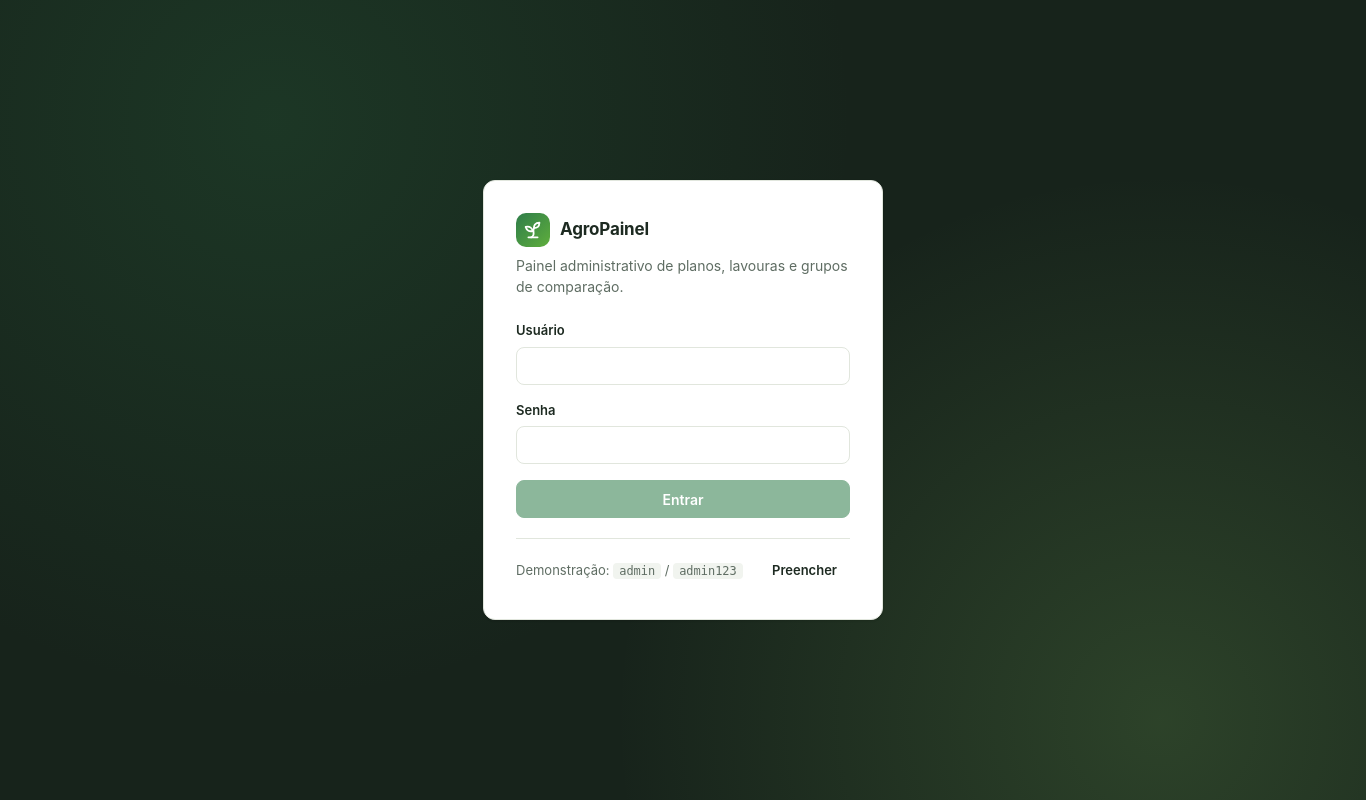
Test case: Autenticação › exibe erro com credenciais inválidas
The width and height of the screenshot is (1366, 800).
In the field named "username": (683, 366) [516,347,850,385], type "admin"
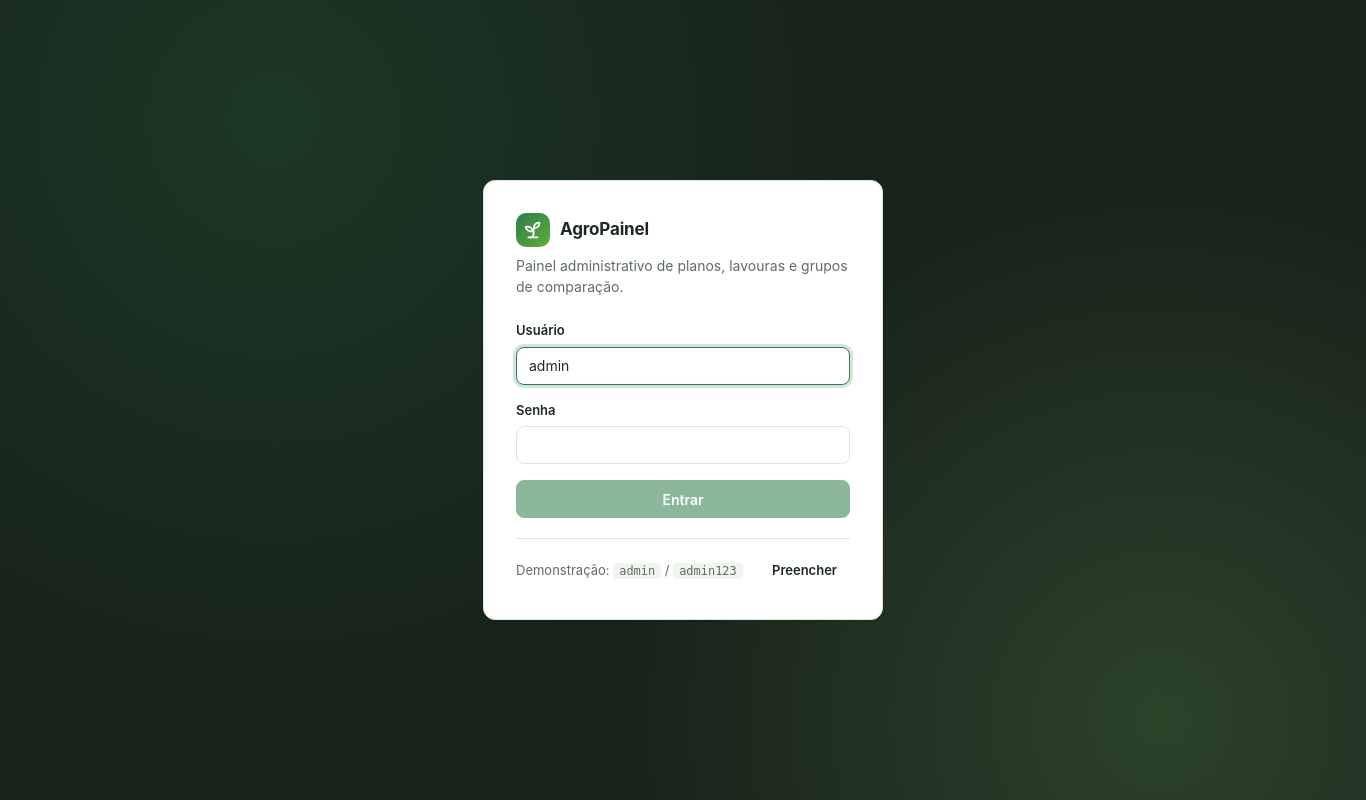
In the password field named "password": (683, 445) [516,426,850,464], type "senha-errada"
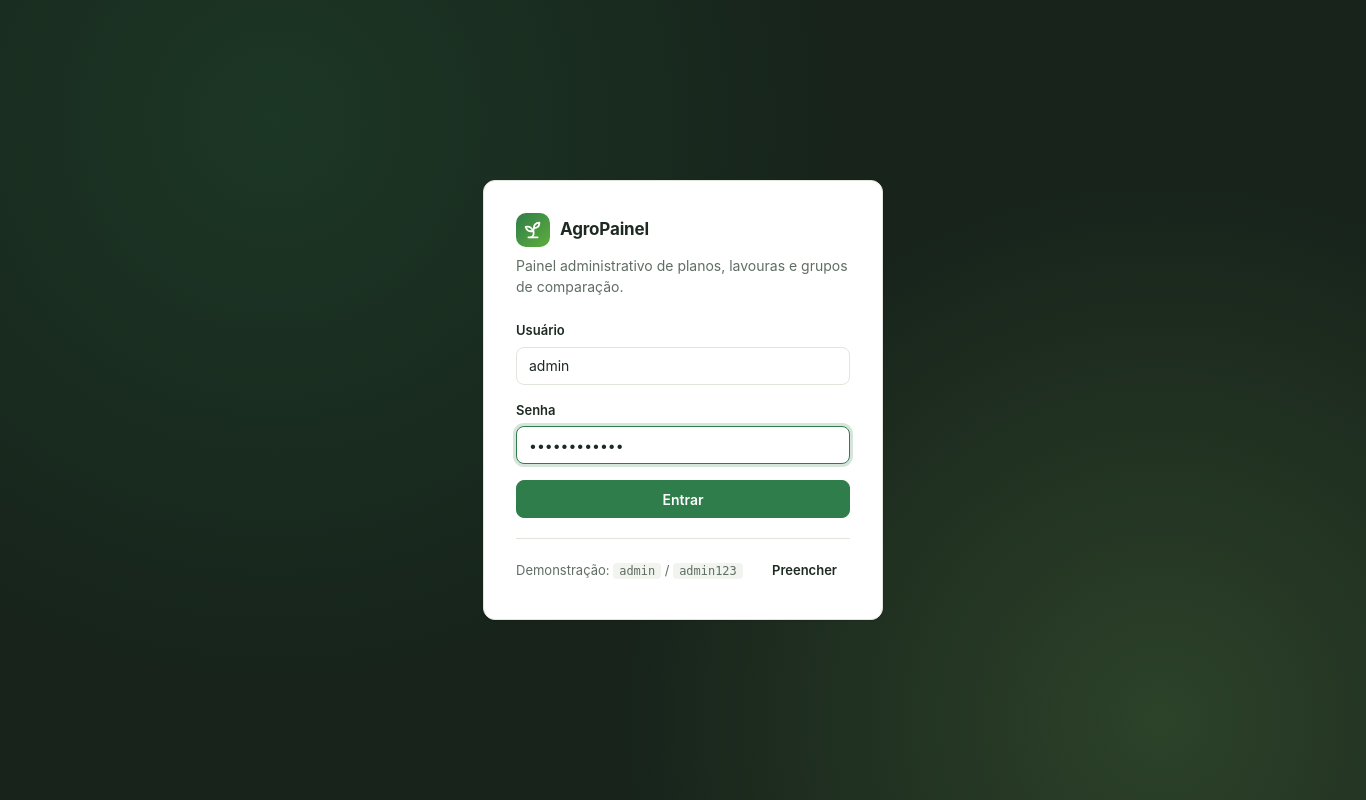
Click the button "Entrar": click(683, 499) [516,480,850,518]
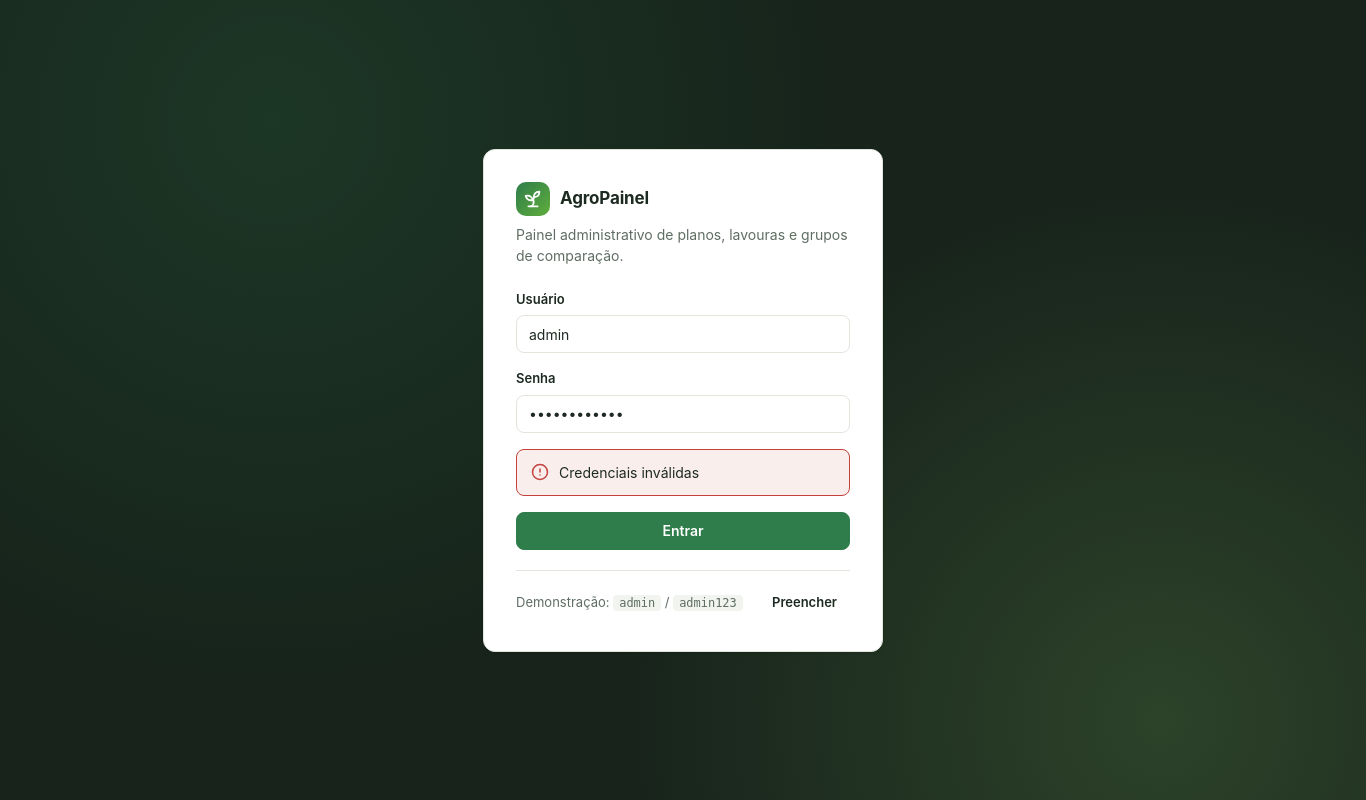
Check: the message "Credenciais inválidas" is shown, box [516,448,850,496]
